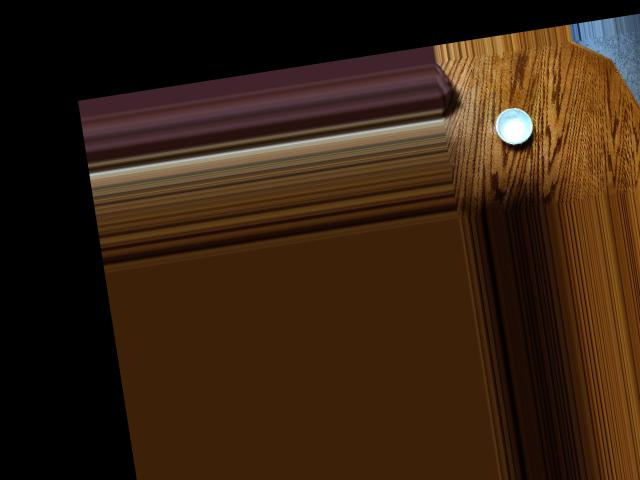cotage: (487, 102, 538, 146)
